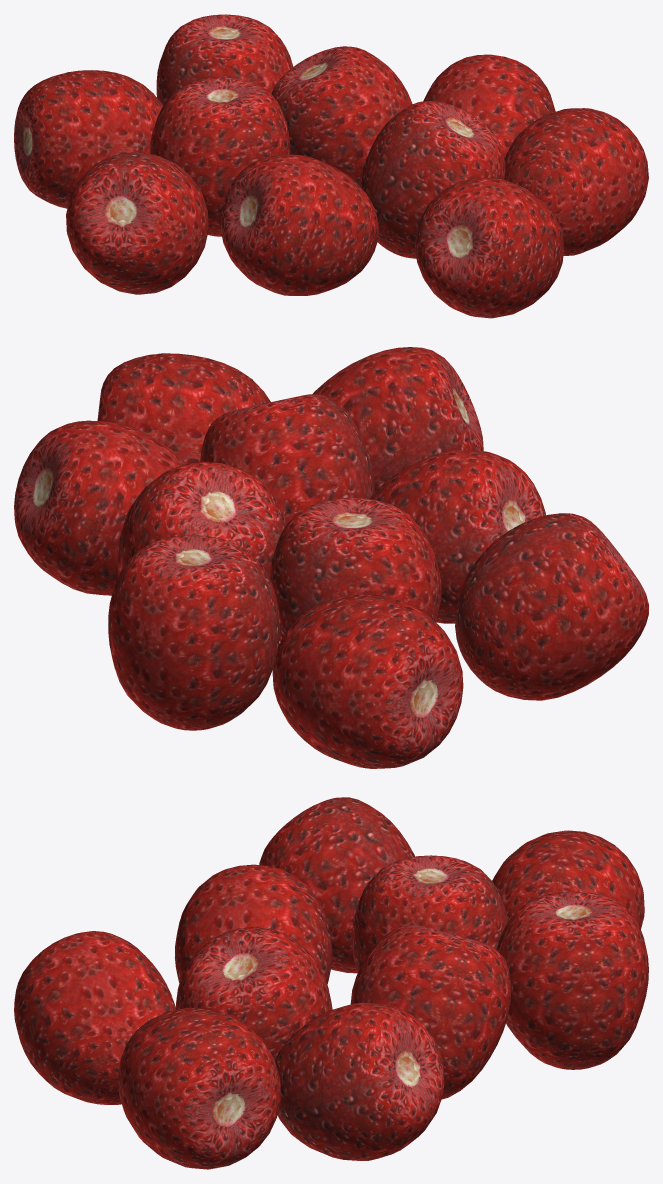
3 renders of one model, top to bottom at view 1: azimuth 30°, elevation 25°; view 2: azimuth 150°, elevation 25°; view 3: azimuth 270°, elevation 25°, orthographic. The views are drawn at different scales.
Parts seen in each view (by area): view 1: Model_096_Strawberry_01, Model_096_Strawberry_02, Model_096_Strawberry_09, Model_096_Strawberry_08, Model_096_Strawberry_03, Model_096_Strawberry_07, Model_096_Strawberry_00, Model_096_Strawberry_06, Model_096_Strawberry_05, Model_096_Strawberry_04; view 2: Model_096_Strawberry_05, Model_096_Strawberry_09, Model_096_Strawberry_03, Model_096_Strawberry_04, Model_096_Strawberry_00, Model_096_Strawberry_07, Model_096_Strawberry_02, Model_096_Strawberry_01, Model_096_Strawberry_06, Model_096_Strawberry_08; view 3: Model_096_Strawberry_05, Model_096_Strawberry_04, Model_096_Strawberry_08, Model_096_Strawberry_02, Model_096_Strawberry_06, Model_096_Strawberry_07, Model_096_Strawberry_09, Model_096_Strawberry_00, Model_096_Strawberry_01, Model_096_Strawberry_03.
Part boxes in pixels (x1=…): Model_096_Strawberry_01: x1=221, y1=154, x2=378, y2=295; Model_096_Strawberry_02: x1=415, y1=177, x2=564, y2=318; Model_096_Strawberry_09: x1=66, y1=152, x2=208, y2=294; Model_096_Strawberry_08: x1=504, y1=108, x2=648, y2=255; Model_096_Strawberry_03: x1=14, y1=70, x2=163, y2=208; Model_096_Strawberry_07: x1=358, y1=101, x2=505, y2=258; Model_096_Strawberry_00: x1=149, y1=77, x2=290, y2=236; Model_096_Strawberry_06: x1=271, y1=46, x2=412, y2=184; Model_096_Strawberry_05: x1=156, y1=14, x2=293, y2=105; Model_096_Strawberry_04: x1=423, y1=54, x2=555, y2=157; Model_096_Strawberry_05: x1=108, y1=535, x2=280, y2=730; Model_096_Strawberry_09: x1=455, y1=513, x2=648, y2=700; Model_096_Strawberry_03: x1=272, y1=594, x2=463, y2=768; Model_096_Strawberry_04: x1=14, y1=420, x2=186, y2=595; Model_096_Strawberry_00: x1=269, y1=497, x2=441, y2=641; Model_096_Strawberry_07: x1=200, y1=394, x2=374, y2=523; Model_096_Strawberry_02: x1=312, y1=347, x2=483, y2=492; Model_096_Strawberry_01: x1=370, y1=450, x2=545, y2=623; Model_096_Strawberry_06: x1=117, y1=461, x2=287, y2=577; Model_096_Strawberry_08: x1=97, y1=353, x2=270, y2=463; Model_096_Strawberry_05: x1=496, y1=891, x2=648, y2=1069; Model_096_Strawberry_04: x1=275, y1=1002, x2=444, y2=1160; Model_096_Strawberry_08: x1=118, y1=1007, x2=280, y2=1169; Model_096_Strawberry_02: x1=14, y1=931, x2=175, y2=1104; Model_096_Strawberry_06: x1=350, y1=925, x2=511, y2=1099; Model_096_Strawberry_07: x1=175, y1=926, x2=332, y2=1060; Model_096_Strawberry_09: x1=259, y1=797, x2=414, y2=973; Model_096_Strawberry_00: x1=352, y1=855, x2=508, y2=973; Model_096_Strawberry_01: x1=174, y1=864, x2=332, y2=984; Model_096_Strawberry_03: x1=492, y1=830, x2=644, y2=928.
Size of the model in its own units: 37.41 by 10.58 by 36.46.
